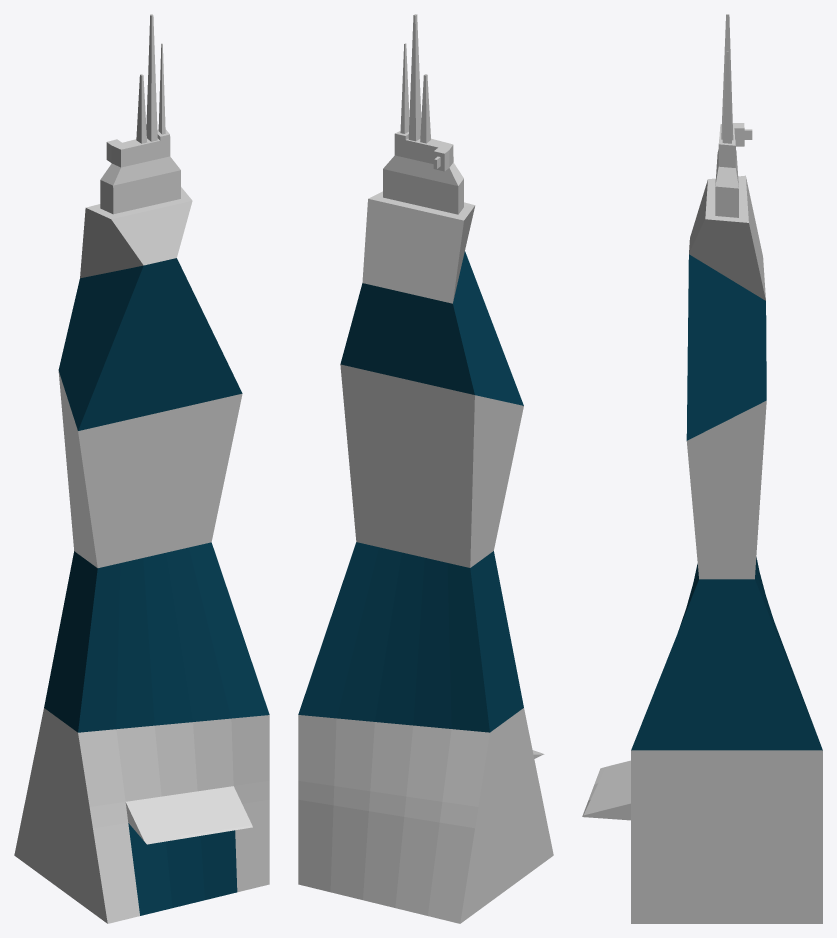
Rendered from SM_Building_02.fbx.
3 renders of one model, left to right at view 1: azimuth 30°, elevation 25°; view 2: azimuth 150°, elevation 25°; view 3: azimuth 270°, elevation 25°, orthographic. The views are drawn at different scales.
Visible parts, largest first — view 1: SM_Building_02; view 2: SM_Building_02; view 3: SM_Building_02.
Part boxes in pixels (x1,y1,x2,y2): SM_Building_02: [14, 14, 269, 923]; SM_Building_02: [298, 14, 553, 923]; SM_Building_02: [582, 14, 822, 923].
Bounding box in the file's own units: 747 × 3755 × 938.
